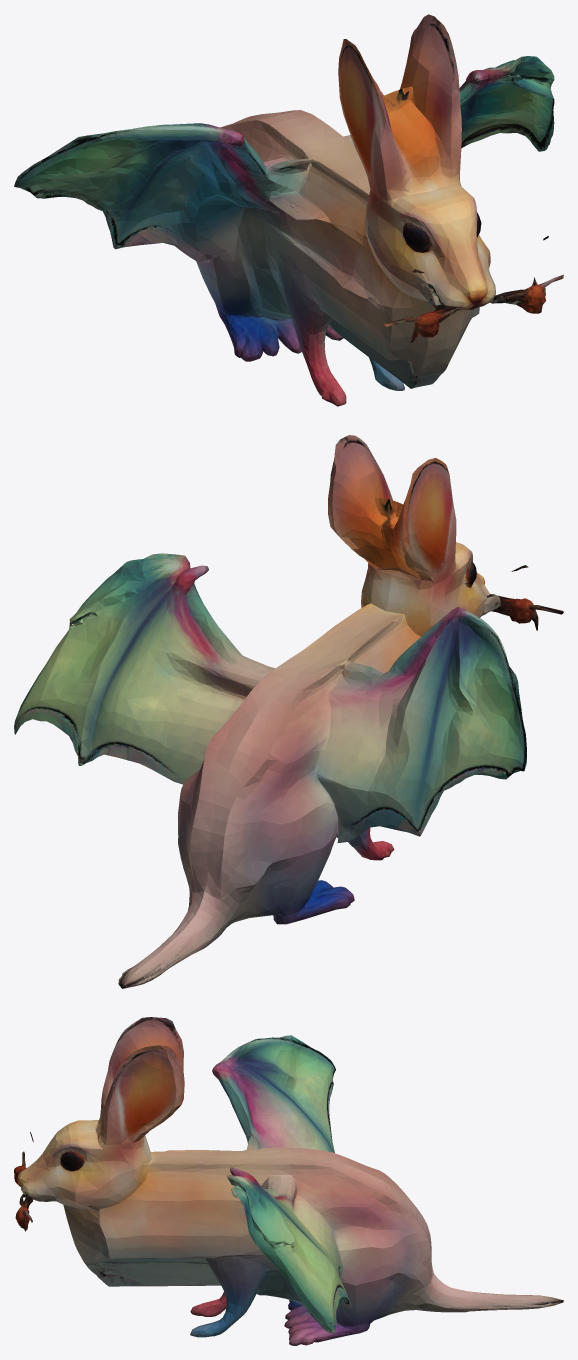
The picture shows the model from 3 angles, top to bottom: view 1: azimuth 30°, elevation 25°; view 2: azimuth 150°, elevation 25°; view 3: azimuth 270°, elevation 25°; orthographic projection. The views are drawn at different scales.
Parts seen in each view (by area): view 1: world; view 2: world; view 3: world.
Part boxes in pixels (left/top/right/bottom): world: left=14, top=14, right=563, bottom=406; world: left=14, top=435, right=563, bottom=988; world: left=14, top=1017, right=563, bottom=1345.
Size of the model in its own units: 0.8417 by 0.5925 by 1.
Materials: 1 (1 with a texture image).
